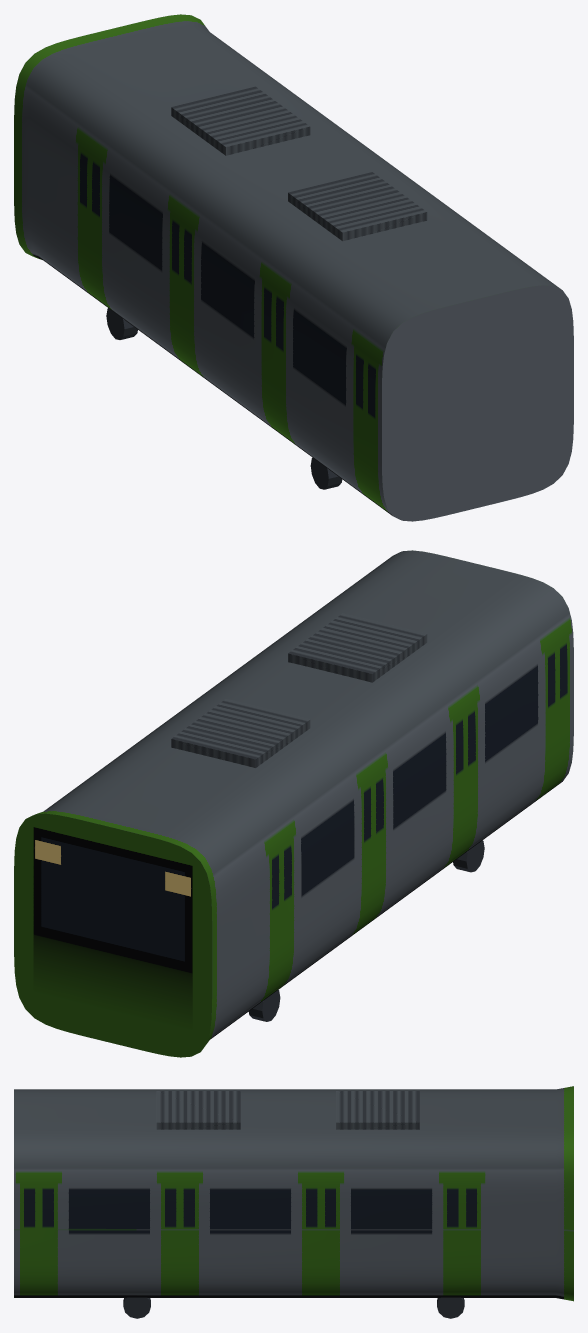
File: Commuter_Lime.fbx
3 renders of one model, top to bottom at view 1: azimuth 30°, elevation 25°; view 2: azimuth 150°, elevation 25°; view 3: azimuth 270°, elevation 25°, orthographic. The views are drawn at different scales.
Parts seen in each view (by area): view 1: Commuter_Lime, Commuter_Lime_Cap-1, Commuter_Lime_Root_AirCon1, Commuter_Lime_Root_AirCon0; view 2: Commuter_Lime, Commuter_Lime_Cap1, Commuter_Lime_Root_AirCon0, Commuter_Lime_Root_AirCon1; view 3: Commuter_Lime, Commuter_Lime_Root_AirCon0, Commuter_Lime_Root_AirCon1, Commuter_Lime_Root_Wheel.002, Commuter_Lime_Root_Wheel.
Boxes of the visible parts, x1,y1,x2,y2 form: Commuter_Lime: [14, 14, 561, 515]; Commuter_Lime_Cap-1: [382, 285, 573, 521]; Commuter_Lime_Root_AirCon1: [171, 86, 310, 155]; Commuter_Lime_Root_AirCon0: [288, 172, 427, 241]; Commuter_Lime: [36, 550, 573, 1043]; Commuter_Lime_Cap1: [14, 813, 212, 1057]; Commuter_Lime_Root_AirCon0: [288, 613, 427, 682]; Commuter_Lime_Root_AirCon1: [171, 699, 310, 767]; Commuter_Lime: [14, 1086, 573, 1301]; Commuter_Lime_Root_AirCon0: [156, 1091, 240, 1129]; Commuter_Lime_Root_AirCon1: [336, 1091, 419, 1129]; Commuter_Lime_Root_Wheel.002: [123, 1297, 150, 1318]; Commuter_Lime_Root_Wheel: [437, 1297, 464, 1318].
Size of the model in its own units: 109 by 125 by 347.
2 materials, 1 textured.
